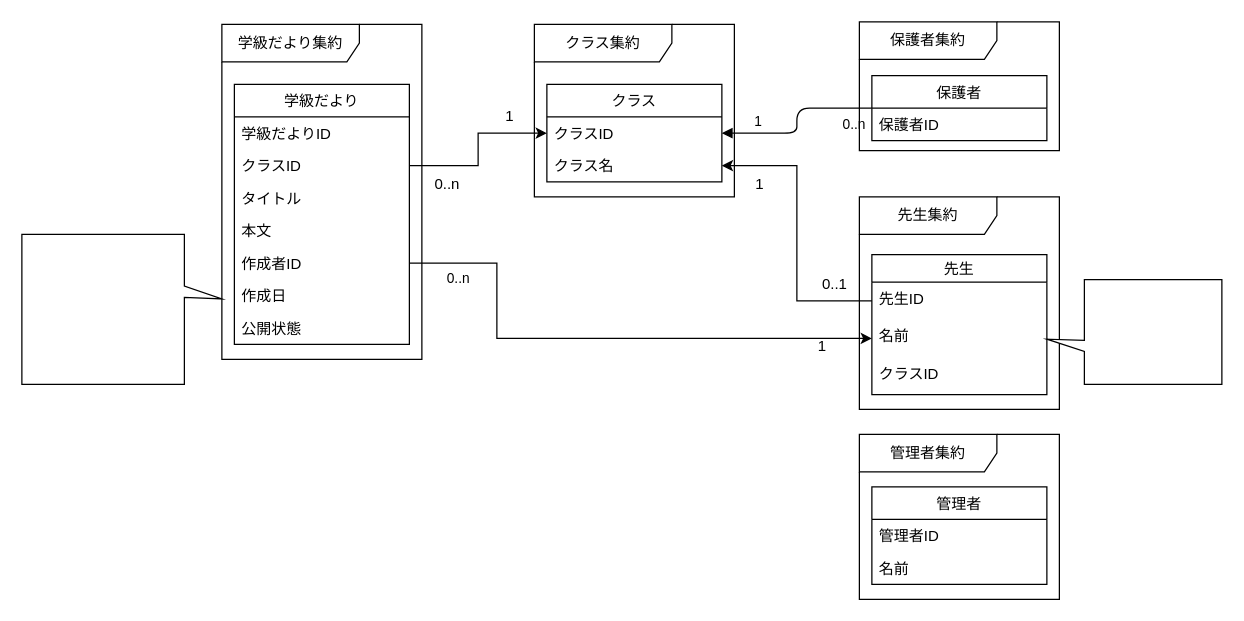
The diagram is 1244 pixels wide and 621 high, and some of its shapes have lost their labels. Here are the shapes that lost their labels. From the top down, the centre of each, then its label:
the point at 121,308: ・公開状態は「未申請・未公開・公開済み」の3つ ・作成時は未申請または未公開 ・管理者のみ未公開から公開に変更できる
the point at 1134,331: 先生は必ず1つのクラスを担当する
